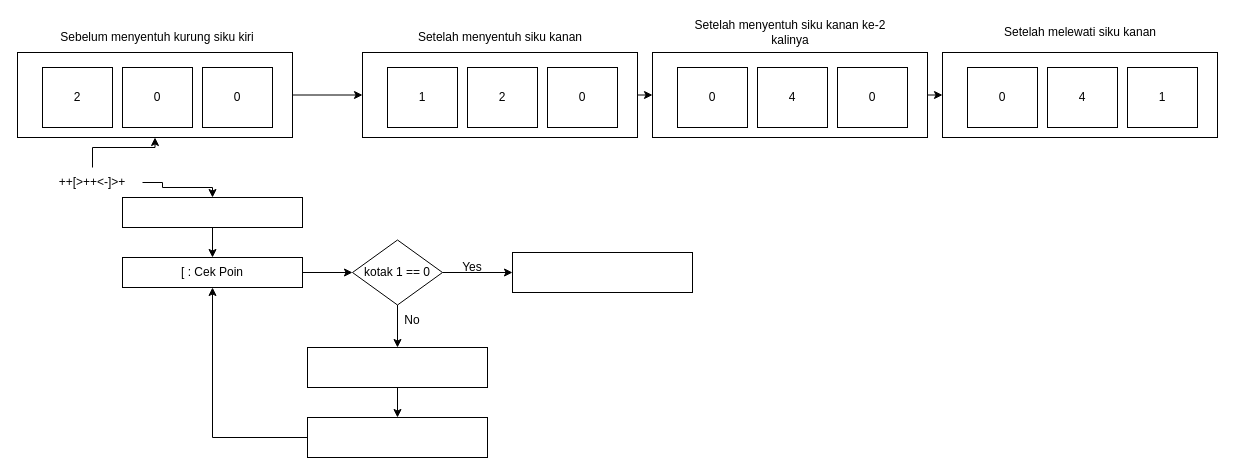
Some shapes in this 1235 by 475 pixel diagram are drawn without their labels. Each missing label, with the box of its shape:
++ : Kotak 1 Bertambah 2: (122, 196, 302, 228)
]: Kembali ke siku kiri ([): (306, 416, 488, 458)
Eksekusi Code di dalamnya sampai ke Siku Kurung Kanan: (306, 346, 488, 388)
Pindah Ke Code Siku kurung kanan: (512, 252, 692, 292)
